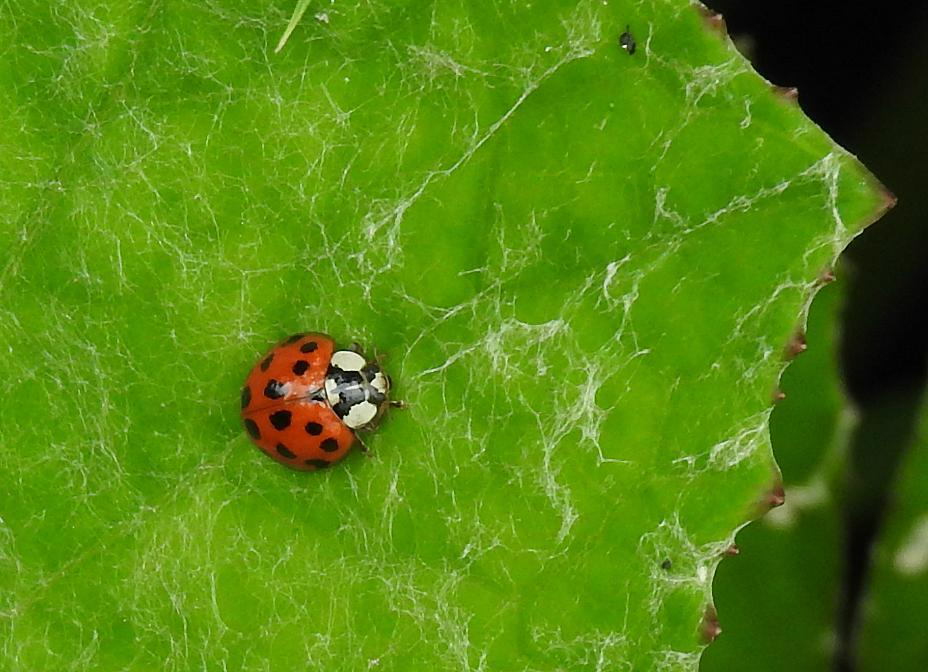ladybug: (237, 331, 415, 475)
